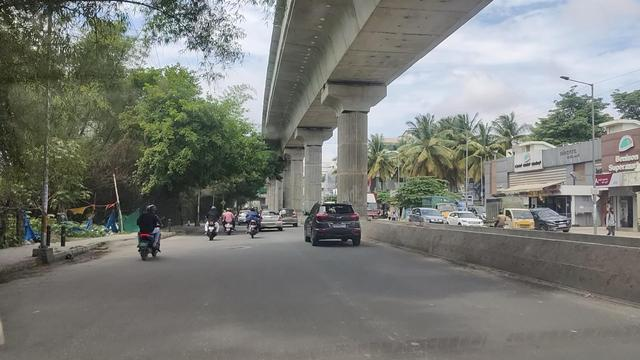LMV: (306, 198, 366, 251), (135, 196, 161, 264), (206, 204, 222, 243), (244, 205, 261, 241)
